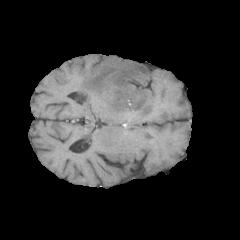glioma: (43, 61, 155, 118)
